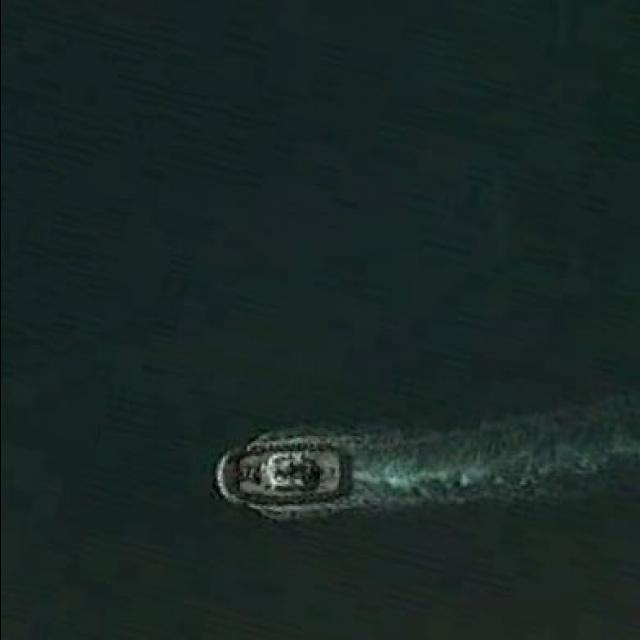ship: (212, 431, 351, 512)
